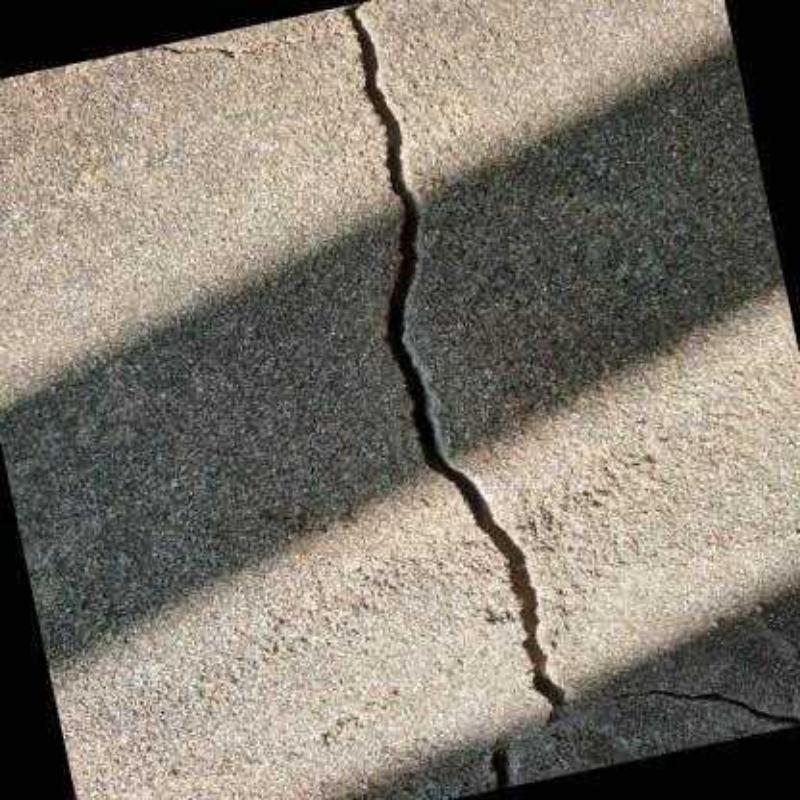pothole: (342, 0, 564, 726), (572, 688, 800, 725)
